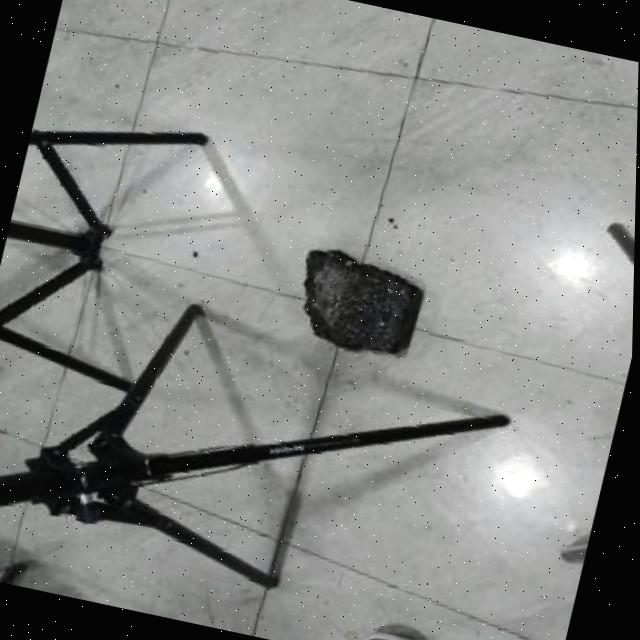Road Debris: (344, 258, 437, 356)
